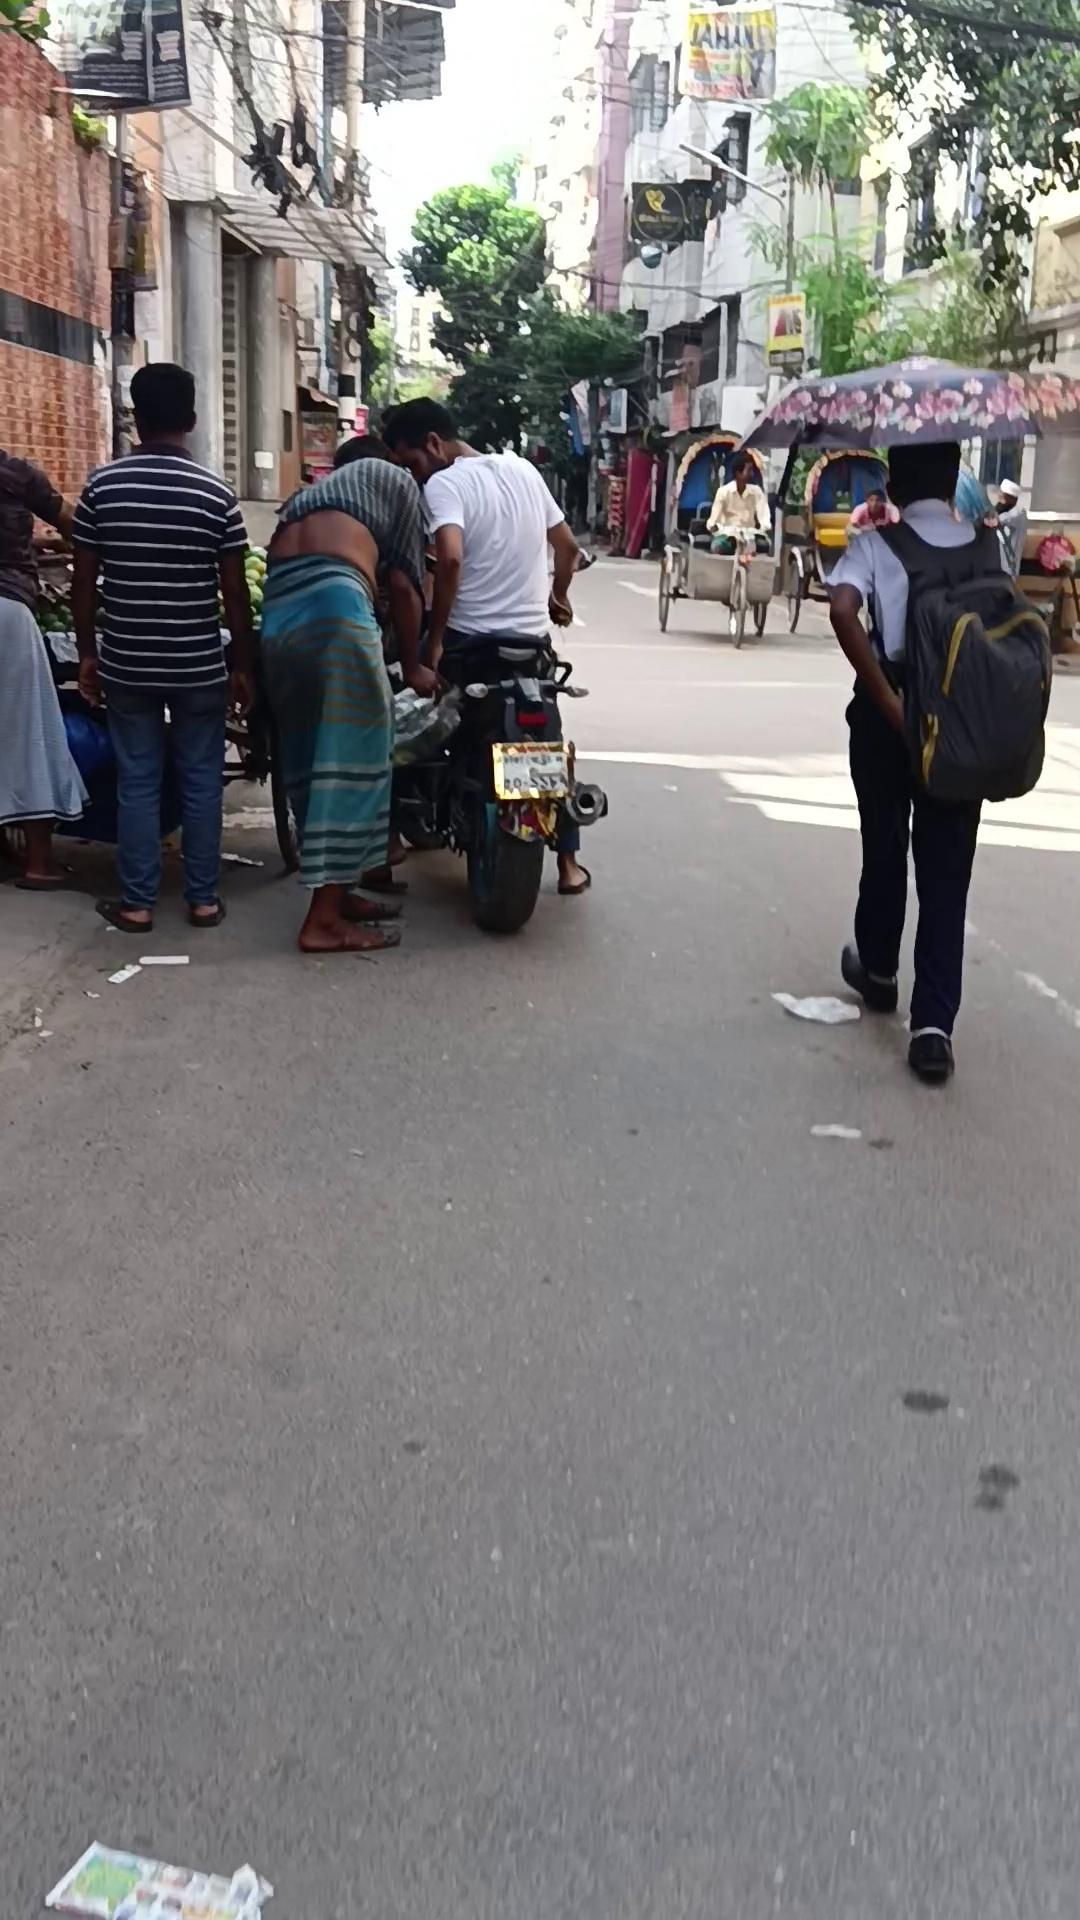Muddy road: (825, 438, 1015, 1079), (378, 396, 593, 895), (70, 361, 256, 932), (258, 435, 439, 953), (0, 448, 91, 890), (705, 454, 771, 566), (984, 477, 1027, 580), (847, 488, 899, 535)
Pothole: (655, 431, 781, 649), (777, 443, 894, 633)
